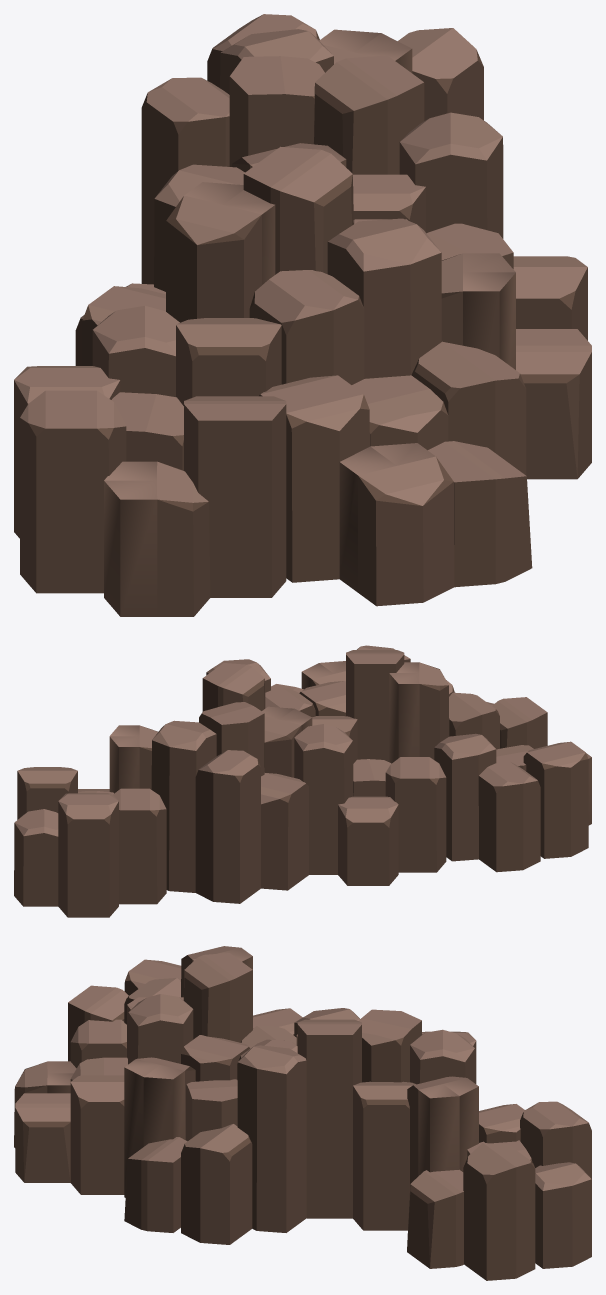
Rendered from stone.glb.
The picture shows the model from 3 angles, top to bottom: view 1: azimuth 30°, elevation 25°; view 2: azimuth 150°, elevation 25°; view 3: azimuth 270°, elevation 25°; orthographic projection. The views are drawn at different scales.
Visible parts, largest first — view 1: Plane.042; view 2: Plane.042; view 3: Plane.042.
Part boxes in pixels (x1=…): Plane.042: x1=14, y1=14, x2=591, y2=616; Plane.042: x1=14, y1=645, x2=591, y2=917; Plane.042: x1=14, y1=946, x2=591, y2=1280.
Bounding box in the file's own units: 92.09 × 37.43 × 102.
Materials: 1 (1 with a texture image).
